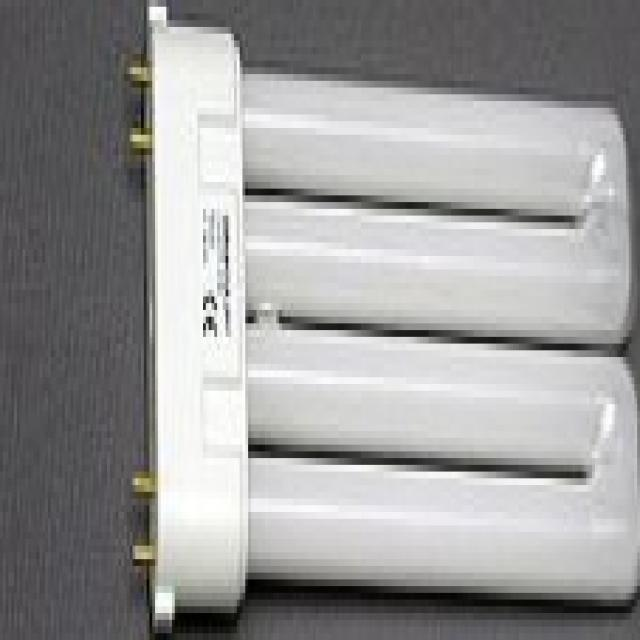bulb: (115, 0, 640, 593)
